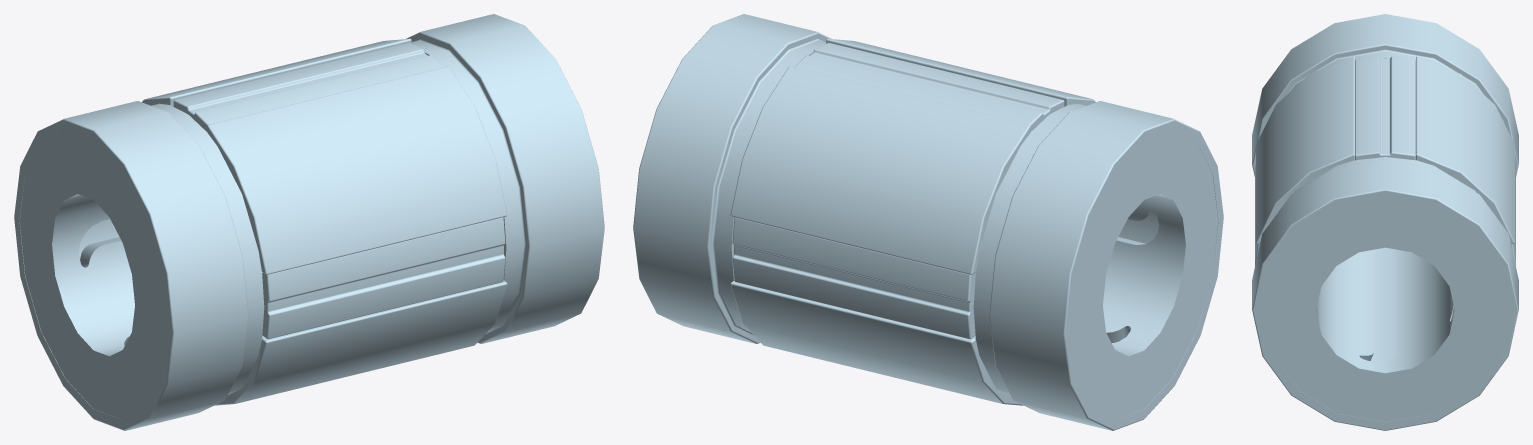
3 views of the same model, side by side, from view 1: azimuth 30°, elevation 25°; view 2: azimuth 150°, elevation 25°; view 3: azimuth 270°, elevation 25° (orthographic). The views are drawn at different scales.
Parts seen in each view (by area): view 1: mesh13284, mesh13244, mesh13321, mesh13325, mesh13295, mesh13526, mesh13455, mesh13447, mesh13313, mesh13323, mesh13248, mesh13397 (+13 smaller); view 2: mesh13273, mesh13244, mesh13321, mesh13325, mesh13306, mesh13526, mesh13347, mesh13355, mesh13313, mesh13323, mesh13248, mesh13405 (+13 smaller); view 3: mesh13240, mesh13526, mesh13273, mesh13284, mesh13244, mesh13321, mesh13242, mesh13528, mesh13397, mesh13405, mesh13243, mesh13319 (+9 smaller).
Part boxes in pixels (bbox=[...]): mesh13284: bbox=[209, 67, 506, 273]; mesh13244: bbox=[421, 14, 603, 343]; mesh13321: bbox=[65, 101, 247, 430]; mesh13325: bbox=[19, 131, 167, 419]; mesh13295: bbox=[236, 285, 506, 403]; mesh13526: bbox=[52, 194, 134, 356]; mesh13455: bbox=[269, 218, 504, 300]; mesh13447: bbox=[269, 259, 504, 338]; mesh13313: bbox=[151, 103, 264, 394]; mesh13323: bbox=[14, 121, 172, 429]; mesh13248: bbox=[411, 40, 523, 331]; mesh13397: bbox=[197, 55, 442, 124]; mesh13273: bbox=[731, 67, 1028, 273]; mesh13244: bbox=[634, 14, 816, 343]; mesh13321: bbox=[990, 101, 1172, 430]; mesh13325: bbox=[1070, 131, 1218, 419]; mesh13306: bbox=[731, 285, 1001, 403]; mesh13526: bbox=[1103, 194, 1185, 356]; mesh13347: bbox=[733, 218, 968, 300]; mesh13355: bbox=[733, 259, 968, 338]; mesh13313: bbox=[973, 103, 1086, 394]; mesh13323: bbox=[1065, 121, 1223, 429]; mesh13248: bbox=[714, 40, 826, 331]; mesh13405: bbox=[795, 55, 1040, 124]; mesh13240: bbox=[1262, 198, 1508, 422]; mesh13526: bbox=[1316, 249, 1454, 373]; mesh13273: bbox=[1417, 56, 1514, 241]; mesh13284: bbox=[1256, 56, 1353, 241]; mesh13244: bbox=[1252, 159, 1518, 309]; mesh13321: bbox=[1252, 14, 1518, 164]; mesh13242: bbox=[1253, 191, 1517, 429]; mesh13528: bbox=[1370, 247, 1396, 361]; mesh13397: bbox=[1356, 56, 1378, 154]; mesh13405: bbox=[1392, 56, 1414, 154]; mesh13243: bbox=[1252, 189, 1518, 430]; mesh13319: bbox=[1253, 46, 1517, 170].
Bounding box in the file's own units: 0.025 × 0.016 × 0.016.
